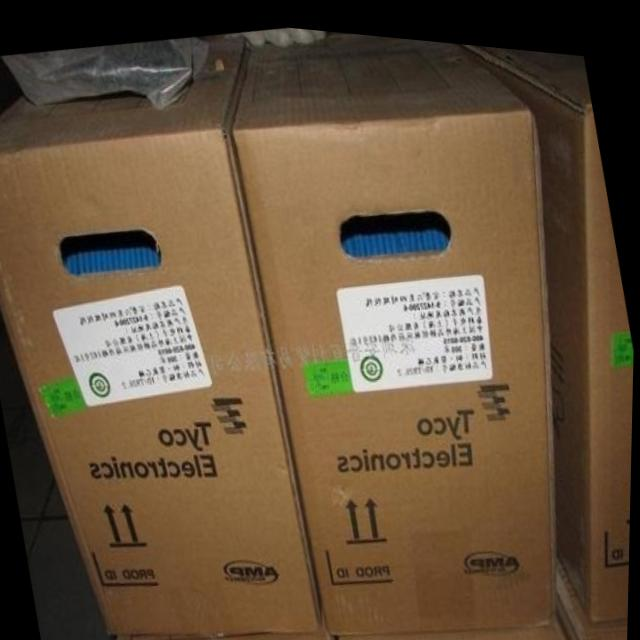box: (232, 24, 566, 634), (0, 27, 328, 635), (456, 35, 635, 606), (122, 598, 339, 640), (339, 613, 578, 640), (563, 552, 630, 635)
